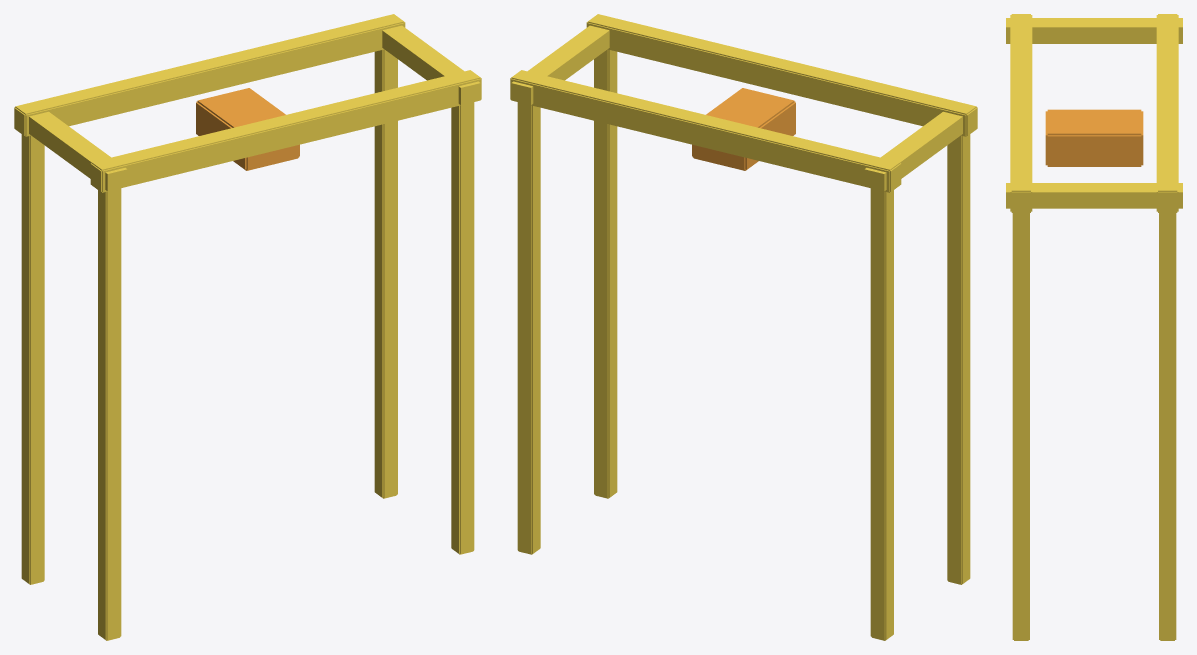
File: crane_gantry.glb
3 views of the same model, side by side, from view 1: azimuth 30°, elevation 25°; view 2: azimuth 150°, elevation 25°; view 3: azimuth 270°, elevation 25° (orthographic). The views are drawn at different scales.
Parts seen in each view (by area): view 1: crane_gantry; view 2: crane_gantry; view 3: crane_gantry.
Boxes of the visible parts, box(x1,y1,x2,y2) form: crane_gantry: box(14, 14, 481, 640); crane_gantry: box(510, 14, 977, 640); crane_gantry: box(1006, 14, 1182, 640).
Size of the model in its own units: 6.9 by 8.2 by 2.9.
